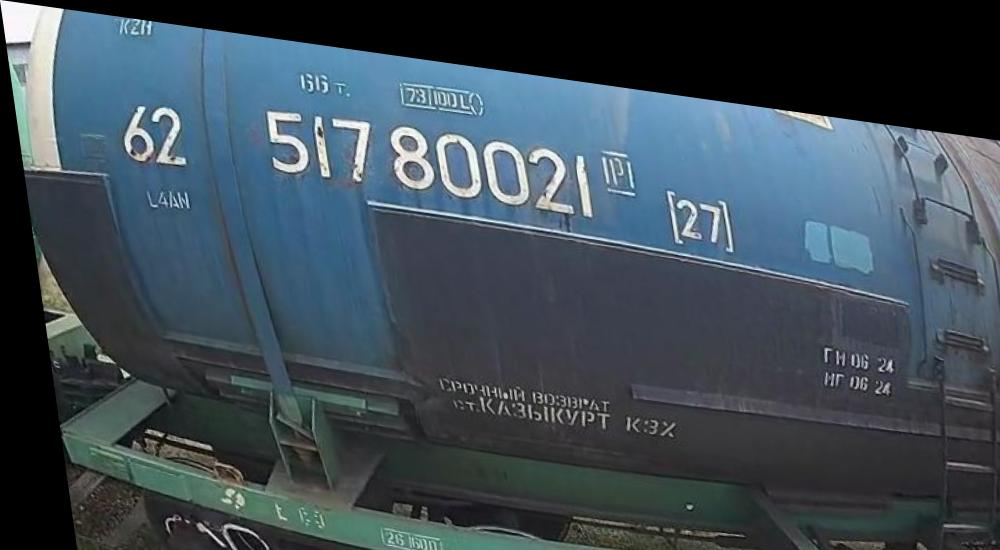Wagon-number: (254, 91, 601, 209)
